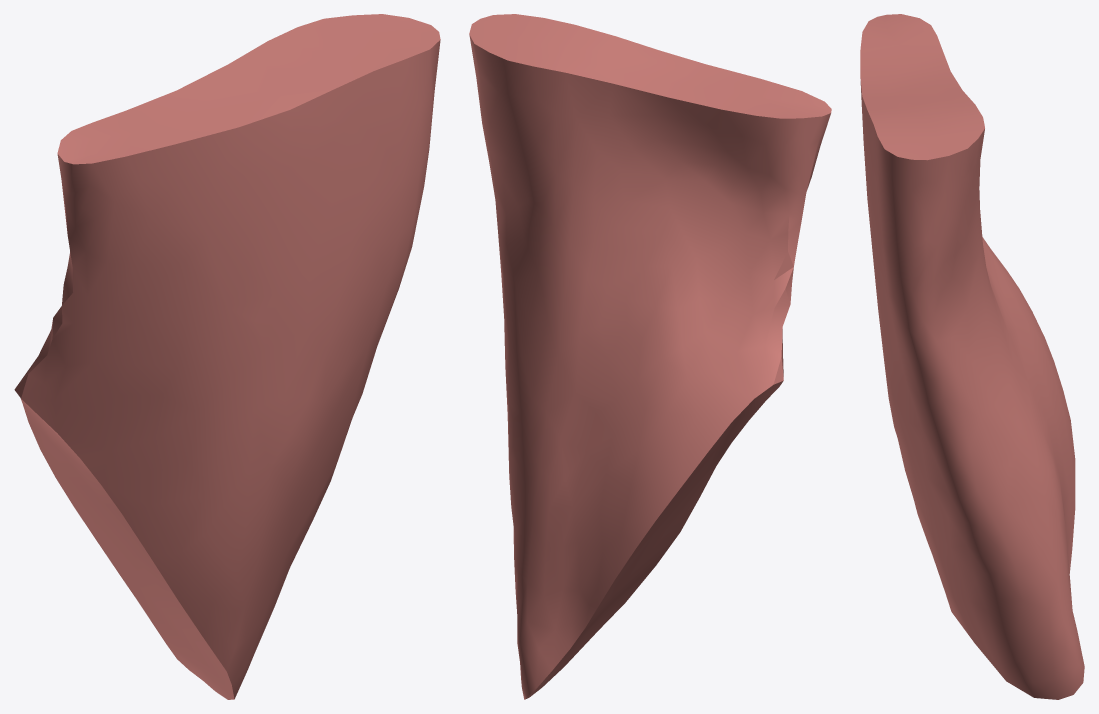
The model's file is fma300718_mm1813m.glb.
The picture shows the model from 3 angles, left to right: view 1: azimuth 30°, elevation 25°; view 2: azimuth 150°, elevation 25°; view 3: azimuth 270°, elevation 25°; orthographic projection. The views are drawn at different scales.
Visible parts, largest first — view 1: FMA300718_MM1813M; view 2: FMA300718_MM1813M; view 3: FMA300718_MM1813M.
Boxes of the visible parts, left/top/right/bottom form: FMA300718_MM1813M: left=14, top=14, right=440, bottom=699; FMA300718_MM1813M: left=469, top=14, right=831, bottom=699; FMA300718_MM1813M: left=860, top=14, right=1084, bottom=699.
Bounding box in the file's own units: 0.0204 × 0.0343 × 0.0116.
